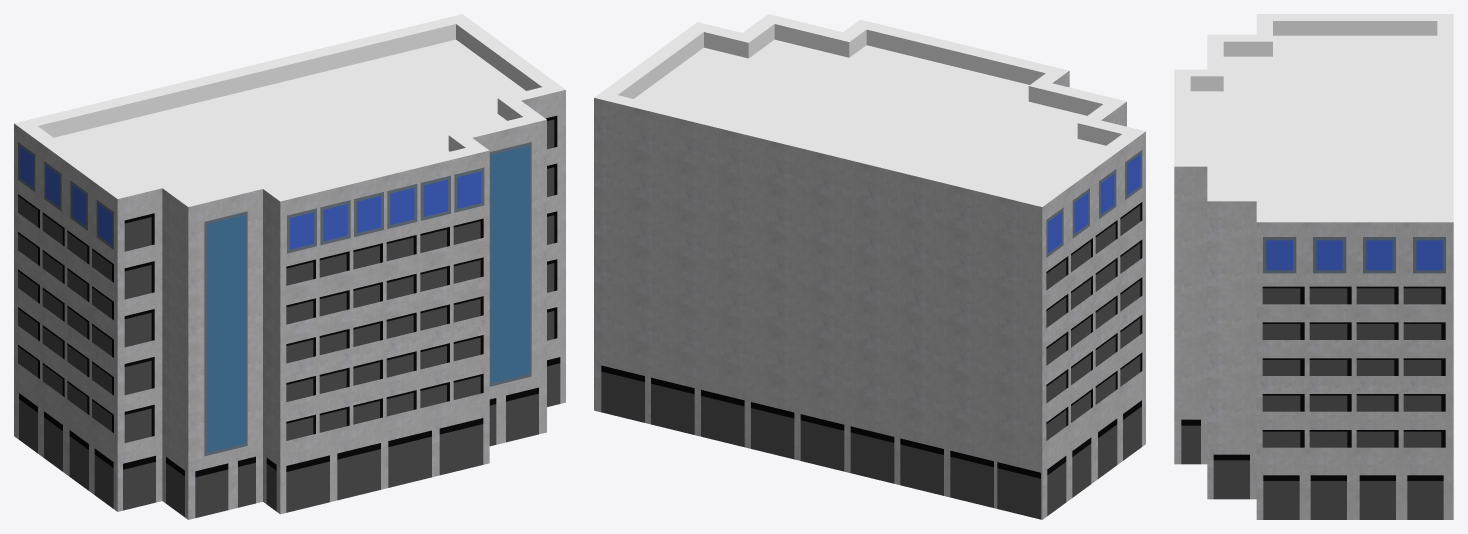
Rendered from budova_final.obj.
3 renders of one model, left to right at view 1: azimuth 30°, elevation 25°; view 2: azimuth 150°, elevation 25°; view 3: azimuth 270°, elevation 25°, orthographic. The views are drawn at different scales.
Visible parts, largest first — view 1: Mesh1 Model; view 2: Mesh1 Model; view 3: Mesh1 Model.
Part boxes in pixels (x1,y1,x2,y2): Mesh1 Model: (14, 14, 565, 519); Mesh1 Model: (594, 14, 1145, 519); Mesh1 Model: (1174, 14, 1453, 519).
Bounding box in the file's own units: 15 × 10 × 8.5.
7 materials, 1 textured.
